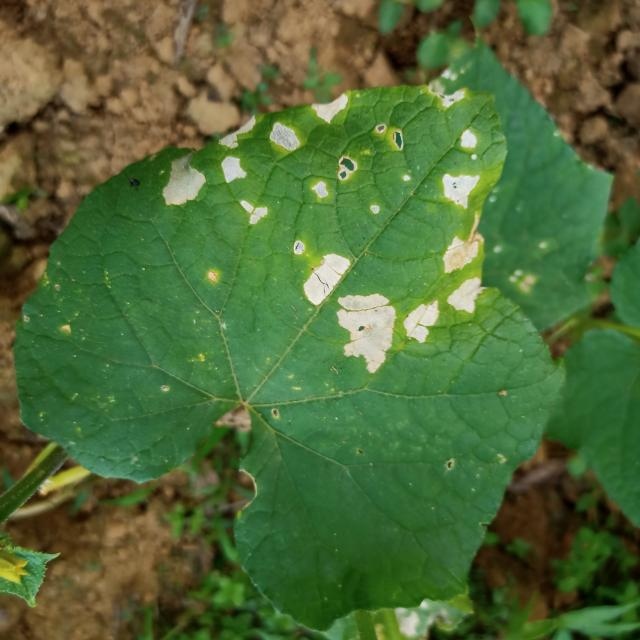disease_cucumber: (304, 248, 397, 372), (442, 236, 482, 314), (444, 127, 479, 208), (312, 154, 362, 202), (220, 120, 258, 182), (161, 155, 207, 205), (404, 301, 442, 344), (312, 93, 351, 126), (270, 119, 304, 154), (238, 196, 271, 225)
